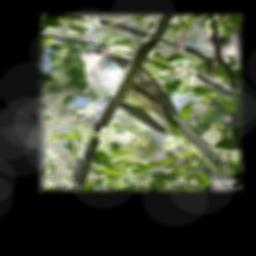Cuckoo: (67, 45, 231, 174)
